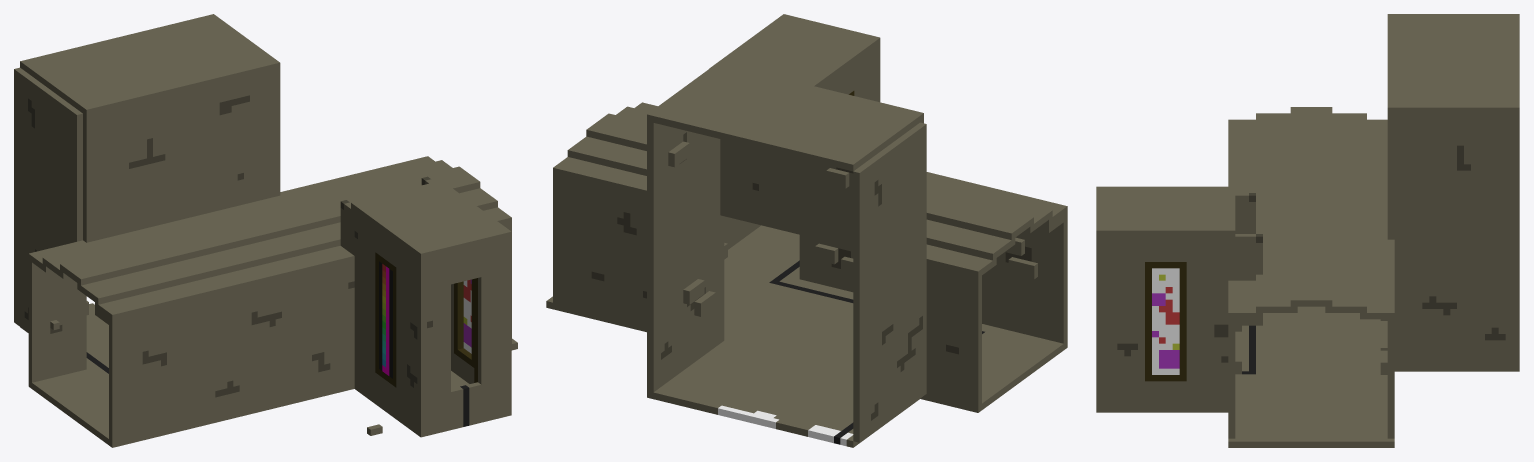
Rendered from junction1.gltf.
3 renders of one model, left to right at view 1: azimuth 30°, elevation 25°; view 2: azimuth 150°, elevation 25°; view 3: azimuth 270°, elevation 25°, orthographic. The views are drawn at different scales.
Parts seen in each view (by area): view 1: Layer.1, Layer.2; view 2: Layer.1, Layer.2, wire; view 3: Layer.1, Layer.2.
Part boxes in pixels (x1,y1,x2,y2): Layer.1: (14, 67, 517, 447); Layer.2: (20, 14, 511, 333); Layer.1: (546, 45, 1067, 447); Layer.2: (553, 14, 1067, 277); wire: (769, 260, 984, 444); Layer.1: (1096, 114, 1519, 447); Layer.2: (1096, 14, 1519, 331).
Bounding box in the file's own units: 67 × 42 × 61.
Materials: 1 (1 with a texture image).
